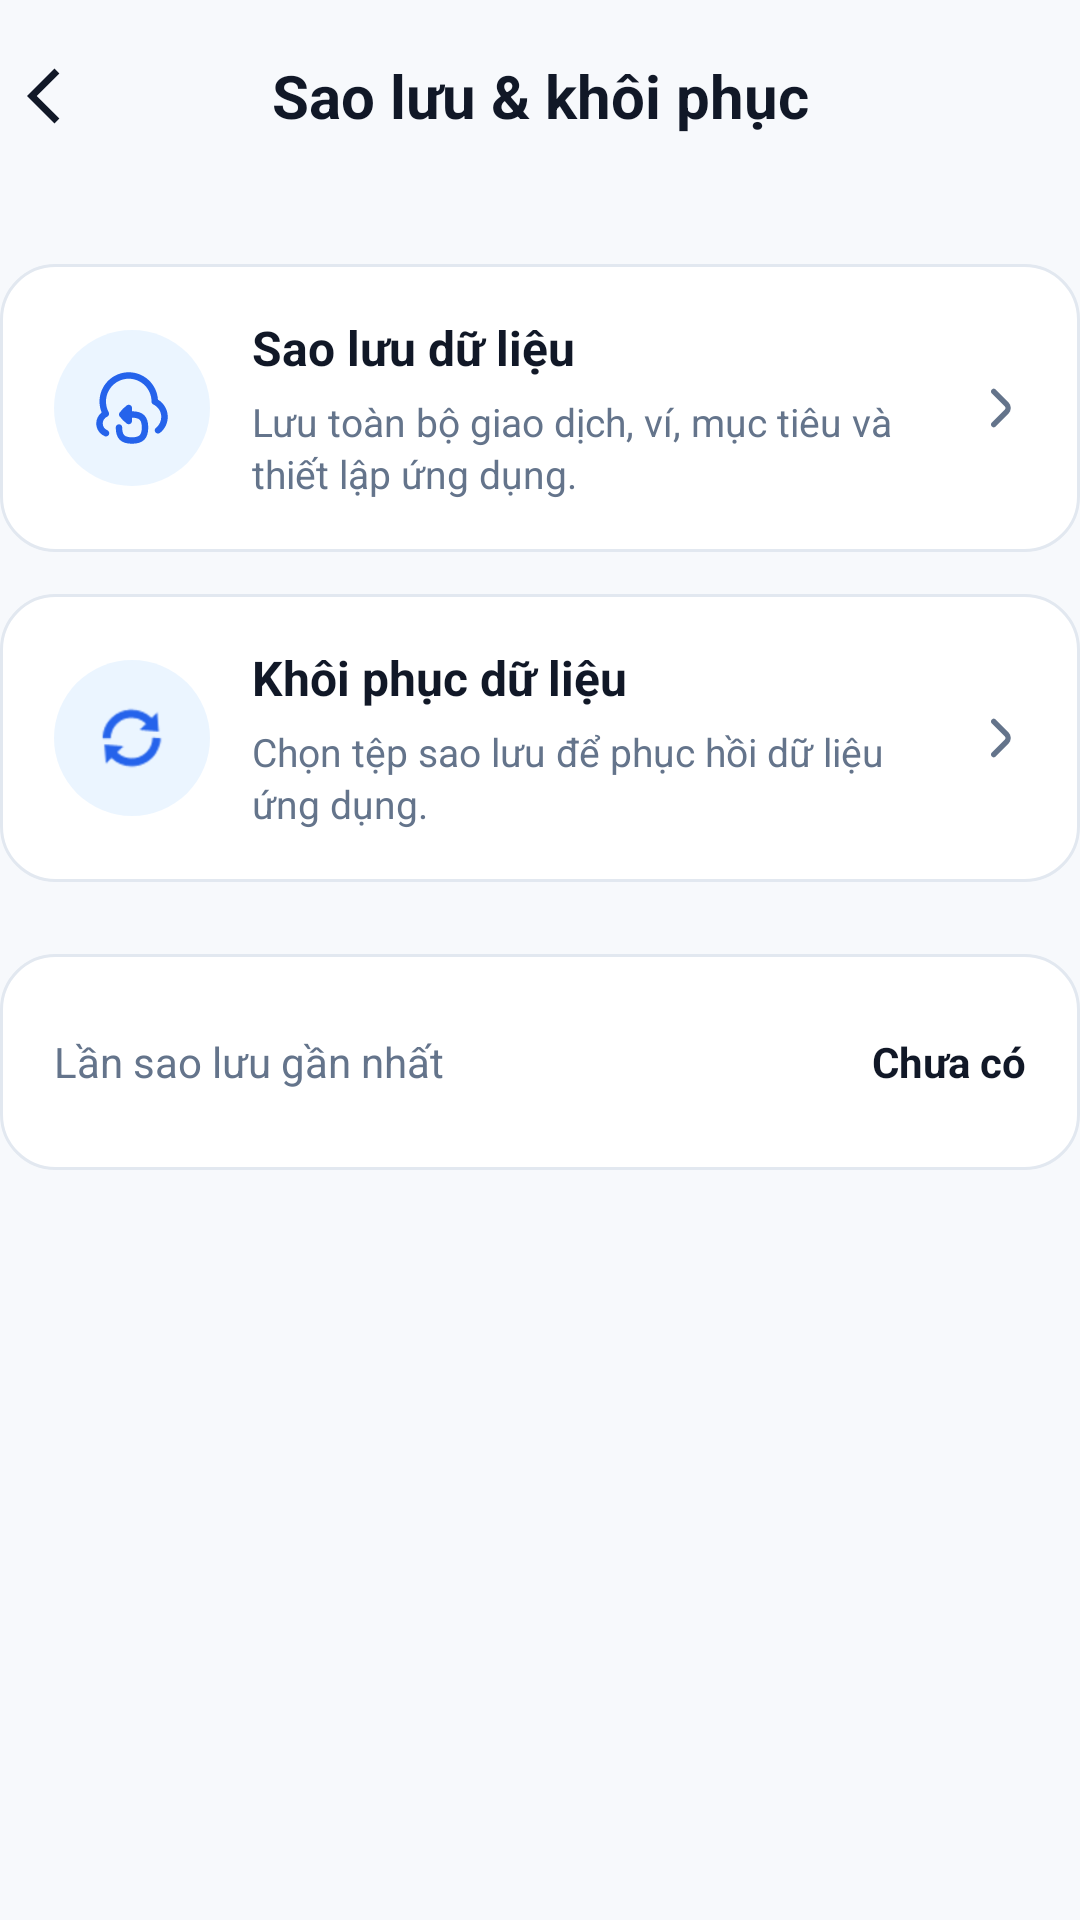

Icon click points for this 1080px×1920px phone screenshot, format (x=x, y=y):
Mở khôi phục: (x=1001, y=738)
Mở sao lưu: (x=1001, y=408)
Quay lại: (x=43, y=96)
